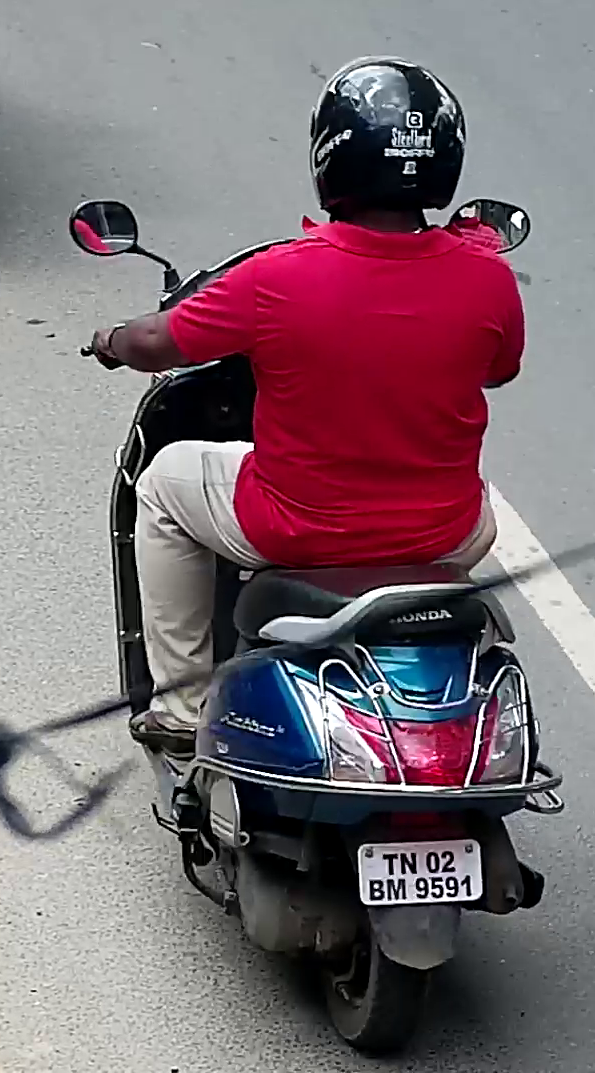0: (425, 851, 440, 873)
1: (459, 875, 473, 897)
2: (441, 850, 456, 873)
5: (430, 876, 444, 899)
9: (414, 877, 429, 899), (445, 876, 459, 898)
B: (368, 879, 385, 901)
M: (386, 877, 407, 901)
N: (398, 851, 418, 875)
P16: (357, 838, 484, 909)
T: (382, 853, 398, 876)
